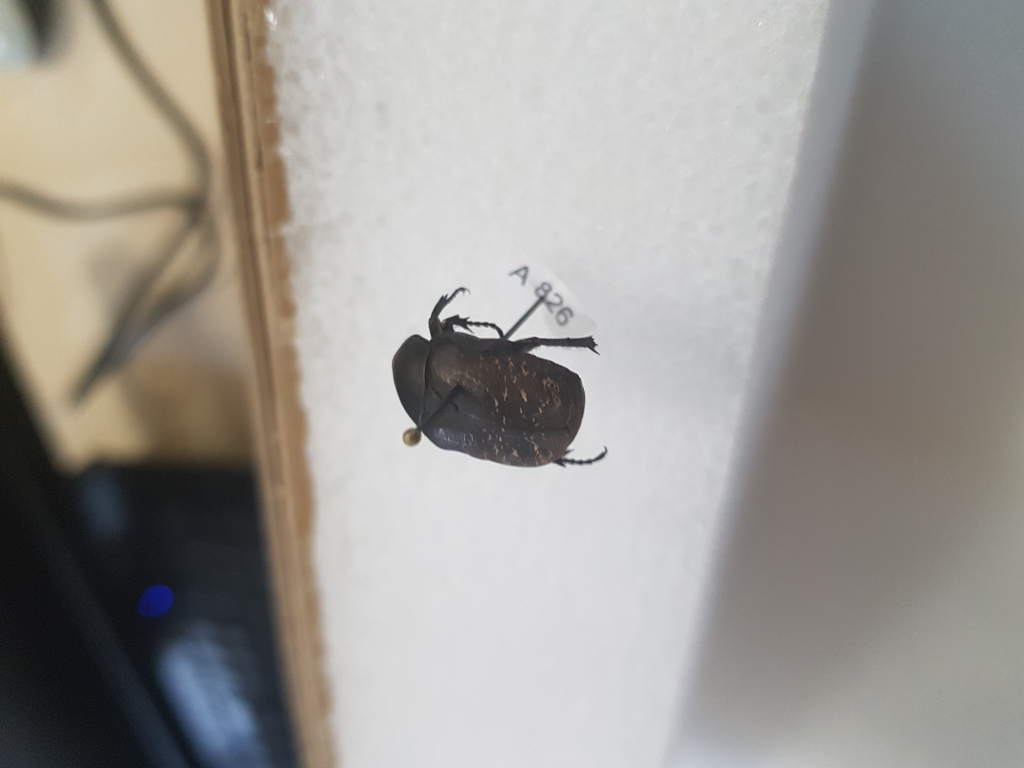Protaetia_oblonga: (389, 283, 604, 470)
